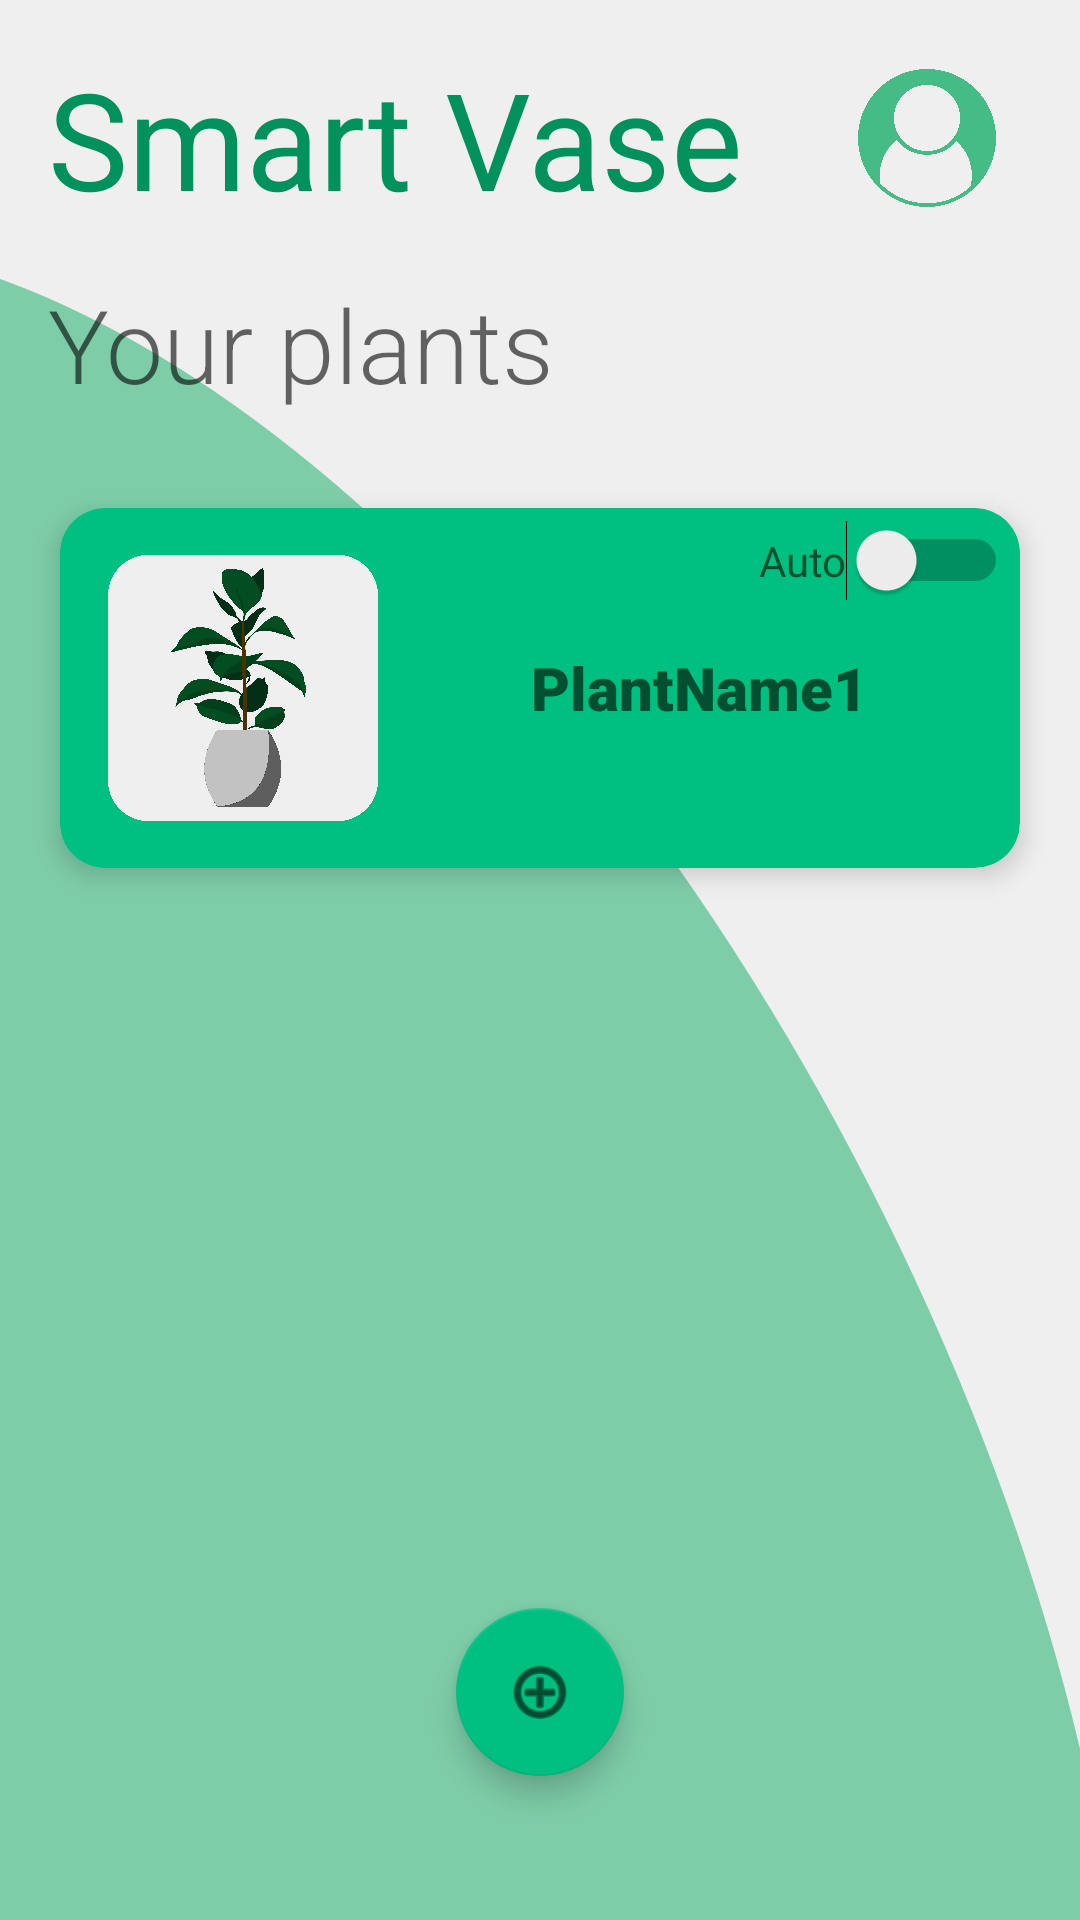

Icons on this 1080*1920 Android screen, each with its box as [x1, y1, x2, y2]:
add: [456, 1608, 624, 1776]
planticon: [108, 555, 378, 821]
utente: [858, 69, 996, 207]
